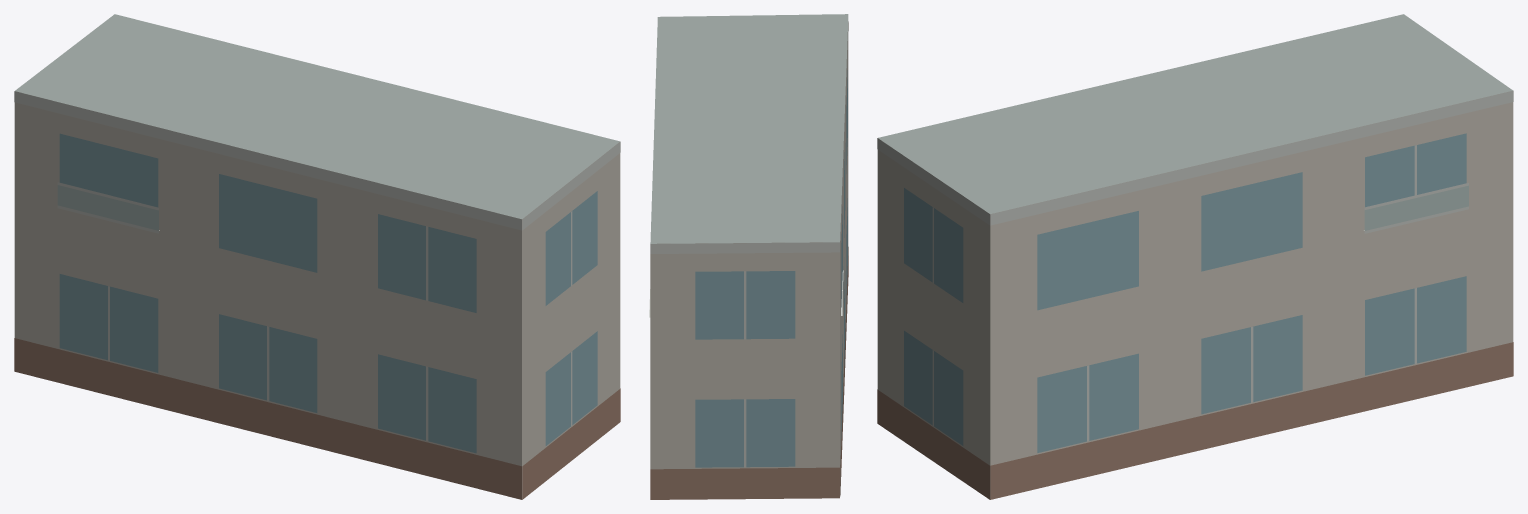
Rendered from survey-upis-32541087.glb.
3 views of the same model, side by side, from view 1: azimuth 30°, elevation 25°; view 2: azimuth 150°, elevation 25°; view 3: azimuth 270°, elevation 25° (orthographic). The views are drawn at different scales.
Visible parts, largest first — view 1: survey-upis-32541087.tmp; view 2: survey-upis-32541087.tmp; view 3: survey-upis-32541087.tmp.
Part boxes in pixels (bbox=[...]): survey-upis-32541087.tmp: bbox=[14, 14, 620, 499]; survey-upis-32541087.tmp: bbox=[649, 14, 848, 499]; survey-upis-32541087.tmp: bbox=[877, 14, 1513, 499].
Bounding box in the file's own units: 9.18 × 6.1 × 12.32.
